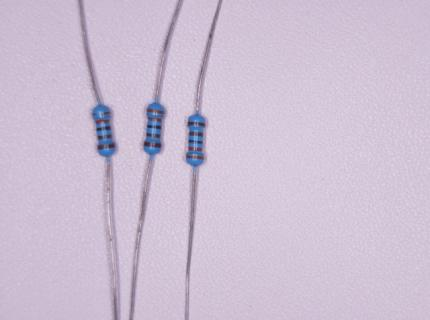Black band: (96, 125, 111, 132), (189, 139, 203, 144), (147, 125, 161, 130)
Brown band: (98, 143, 115, 151), (143, 141, 162, 148), (187, 121, 205, 127), (146, 133, 161, 139), (189, 131, 204, 137), (98, 135, 112, 140)
Orange band: (146, 108, 165, 114), (92, 111, 111, 116), (95, 119, 110, 125), (186, 155, 204, 160), (188, 147, 202, 152), (148, 118, 162, 122)
